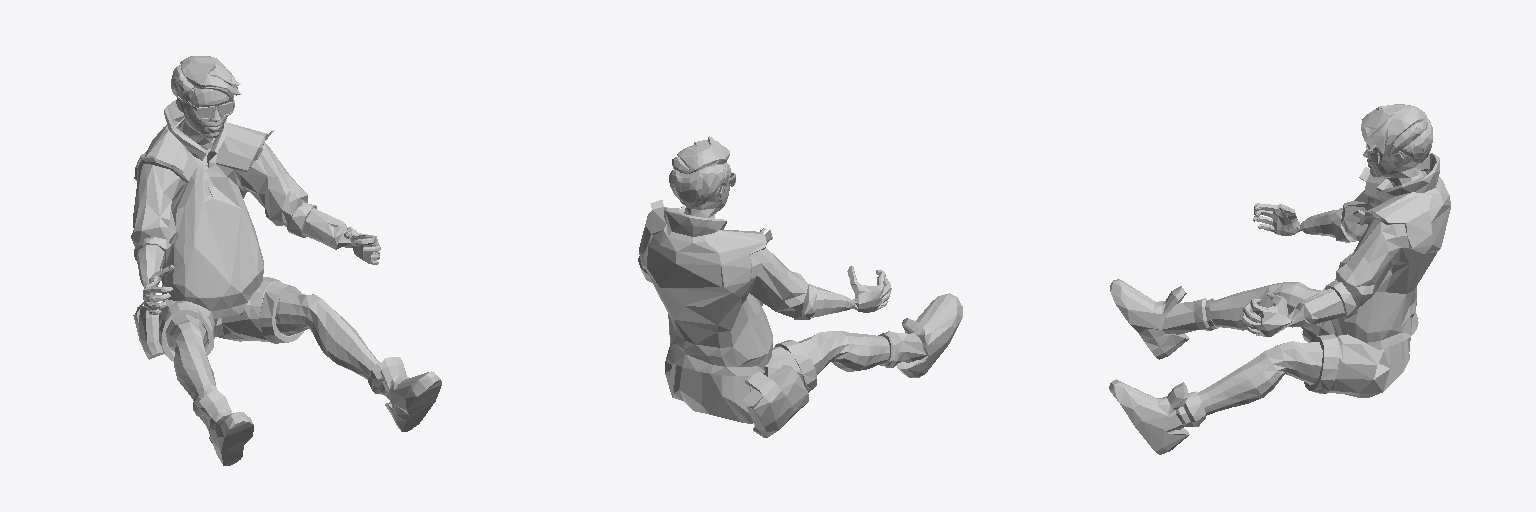
Rendered from cool.obj.
The picture shows the model from 3 angles: view 1: azimuth 30°, elevation 25°; view 2: azimuth 150°, elevation 25°; view 3: azimuth 270°, elevation 25°; orthographic projection.
Parts seen in each view (by area): view 1: Wolf3D_Avatar; view 2: Wolf3D_Avatar; view 3: Wolf3D_Avatar.
Part boxes in pixels (bbox=[...]): Wolf3D_Avatar: bbox=[131, 56, 441, 465]; Wolf3D_Avatar: bbox=[638, 136, 962, 437]; Wolf3D_Avatar: bbox=[1109, 104, 1450, 454].
Size of the model in its own units: 0.8836 by 1.13 by 1.14.